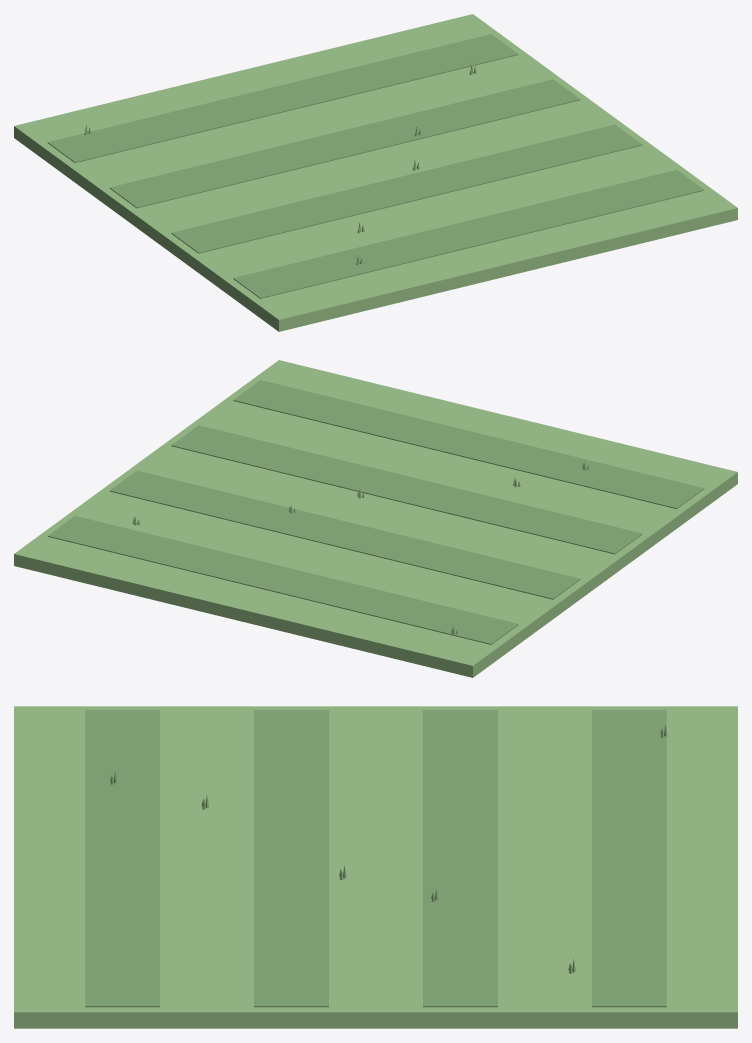
File: racecourse-and-parade-ring-parade-ring-lawn-af45e506__38614.glb
The picture shows the model from 3 angles, top to bottom: view 1: azimuth 30°, elevation 25°; view 2: azimuth 150°, elevation 25°; view 3: azimuth 270°, elevation 25°; orthographic projection. The views are drawn at different scales.
Visible parts, largest first — view 1: parade-ring-lawn; view 2: parade-ring-lawn; view 3: parade-ring-lawn.
Boxes of the visible parts, x1,y1,x2,y2 form: parade-ring-lawn: (14,14,737,331); parade-ring-lawn: (14,360,737,677); parade-ring-lawn: (14,706,737,1028).
Bounding box in the file's own units: 6 × 0.2699 × 6.
